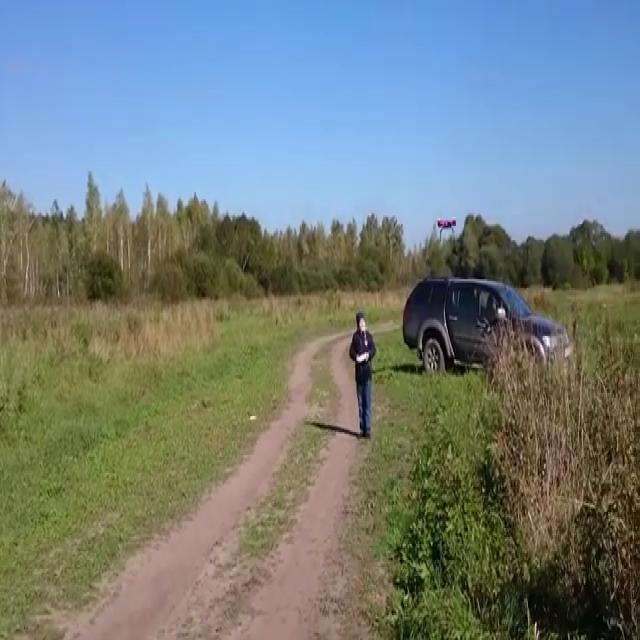Drons: (436, 216, 458, 244)
